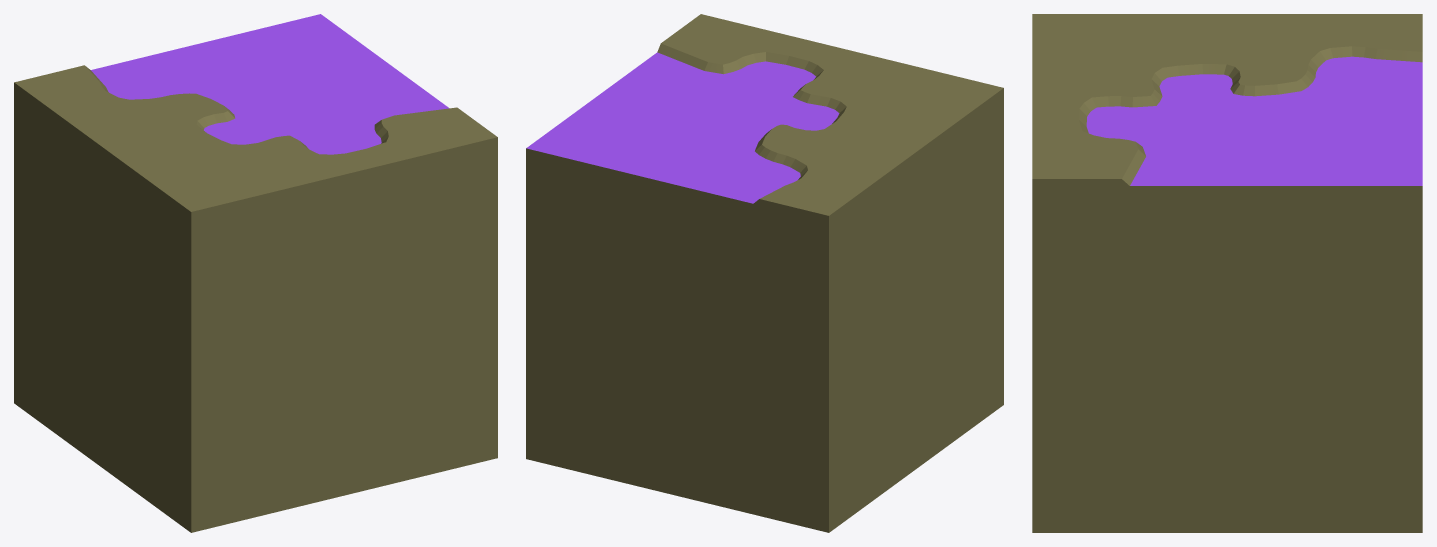
File: tile_toxic_4x_02.fbx
3 views of the same model, side by side, from view 1: azimuth 30°, elevation 25°; view 2: azimuth 150°, elevation 25°; view 3: azimuth 270°, elevation 25° (orthographic). The views are drawn at different scales.
Visible parts, largest first — view 1: tile_toxic_4x_02; view 2: tile_toxic_4x_02; view 3: tile_toxic_4x_02.
Part boxes in pixels (left/top/right/bottom): tile_toxic_4x_02: left=14, top=14, right=497, bottom=532; tile_toxic_4x_02: left=526, top=14, right=1003, bottom=532; tile_toxic_4x_02: left=1032, top=14, right=1422, bottom=532.
Bounding box in the file's own units: 100 × 100 × 100.
